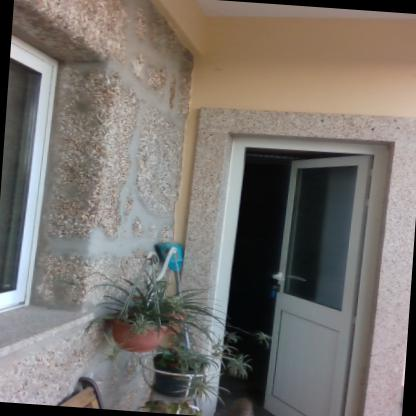semi: (185, 122, 403, 415)
